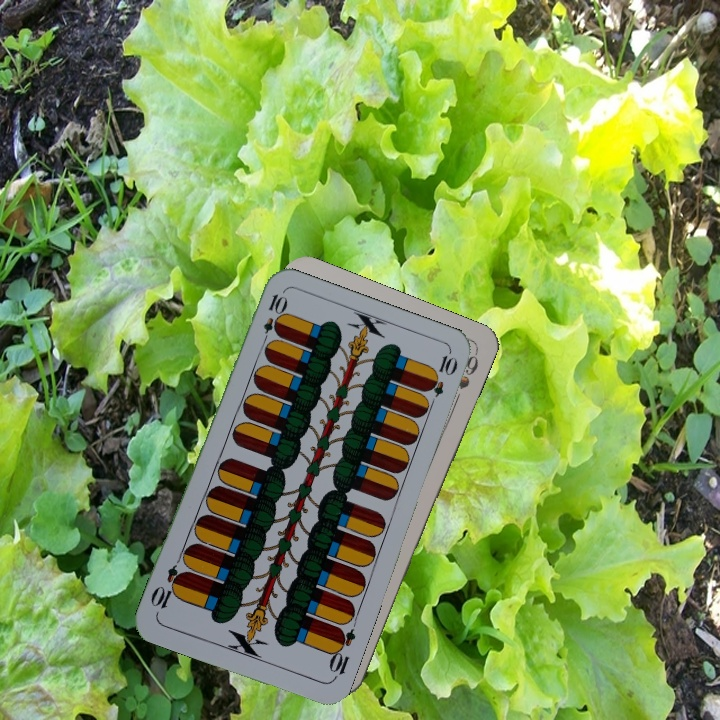E10: (324, 624, 359, 683), (258, 290, 288, 348)
